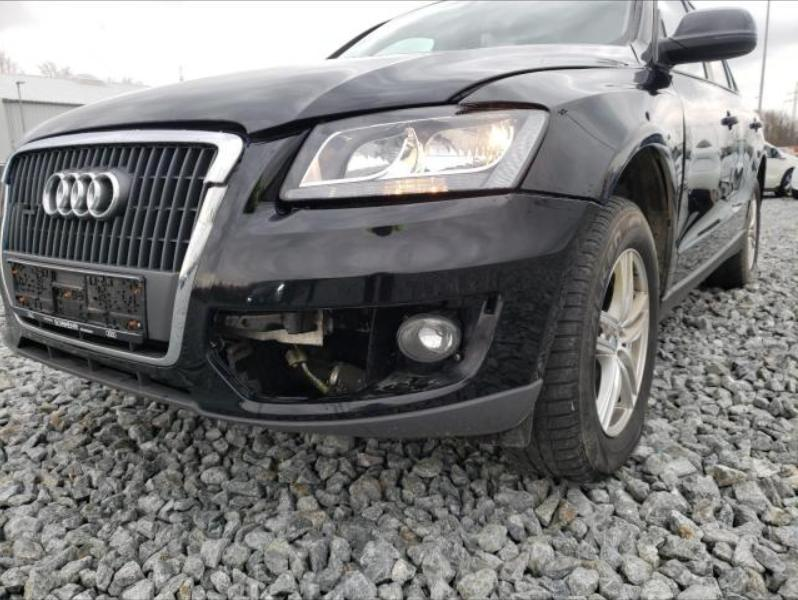Back-door: (706, 62, 764, 235), (685, 1, 698, 12)
Back-wheel: (731, 182, 761, 284)
Back-window: (704, 61, 734, 92)
Fender: (463, 40, 687, 298)
Front-bumper: (2, 126, 601, 438)
Front-door: (656, 63, 740, 295), (652, 0, 687, 62)
Front-wheel: (502, 196, 661, 486)
Front-window: (659, 1, 686, 36), (672, 63, 708, 80)
Grille: (2, 129, 243, 367)
Headlight: (278, 102, 551, 203)
Hood: (23, 44, 643, 142)
License-plate: (0, 254, 148, 343)
Mirror: (656, 8, 757, 68)
Rocker-panel: (660, 229, 746, 322)
Windshield: (329, 1, 641, 60)
